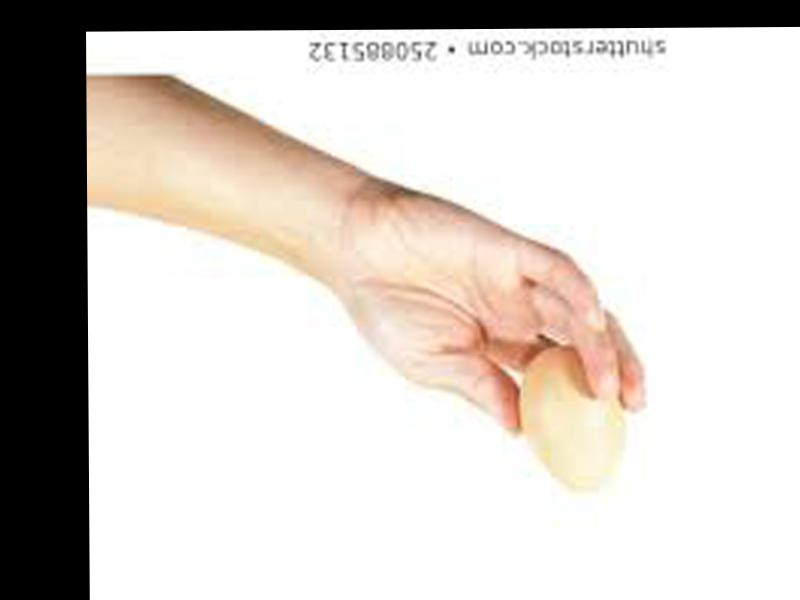Eggs: (519, 340, 625, 495)
